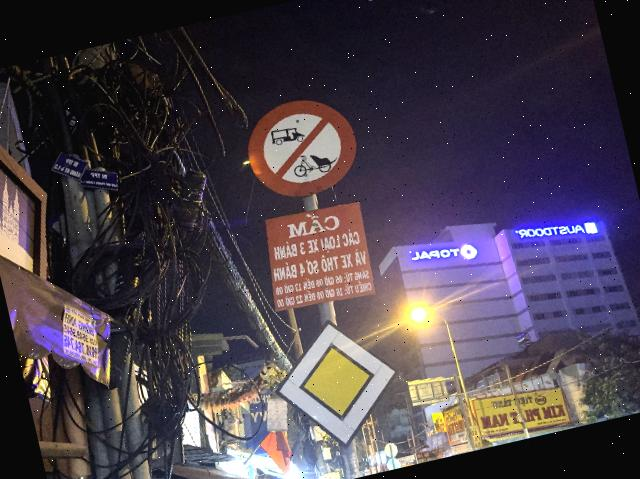bat-dau-duong-uu-tien: (260, 304, 414, 462)
cam-xe-3-banh-xe-tho-so-4-banh: (237, 87, 366, 207)
